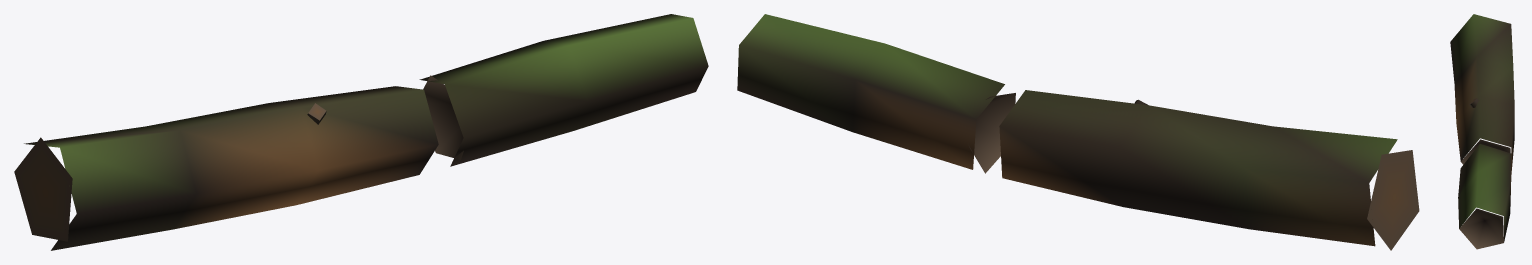
File: log-rotten-b.lod2.glb
3 renders of one model, left to right at view 1: azimuth 30°, elevation 25°; view 2: azimuth 150°, elevation 25°; view 3: azimuth 270°, elevation 25°, orthographic. The views are drawn at different scales.
Size of the model in its own units: 2.97 by 0.5256 by 0.4654.
